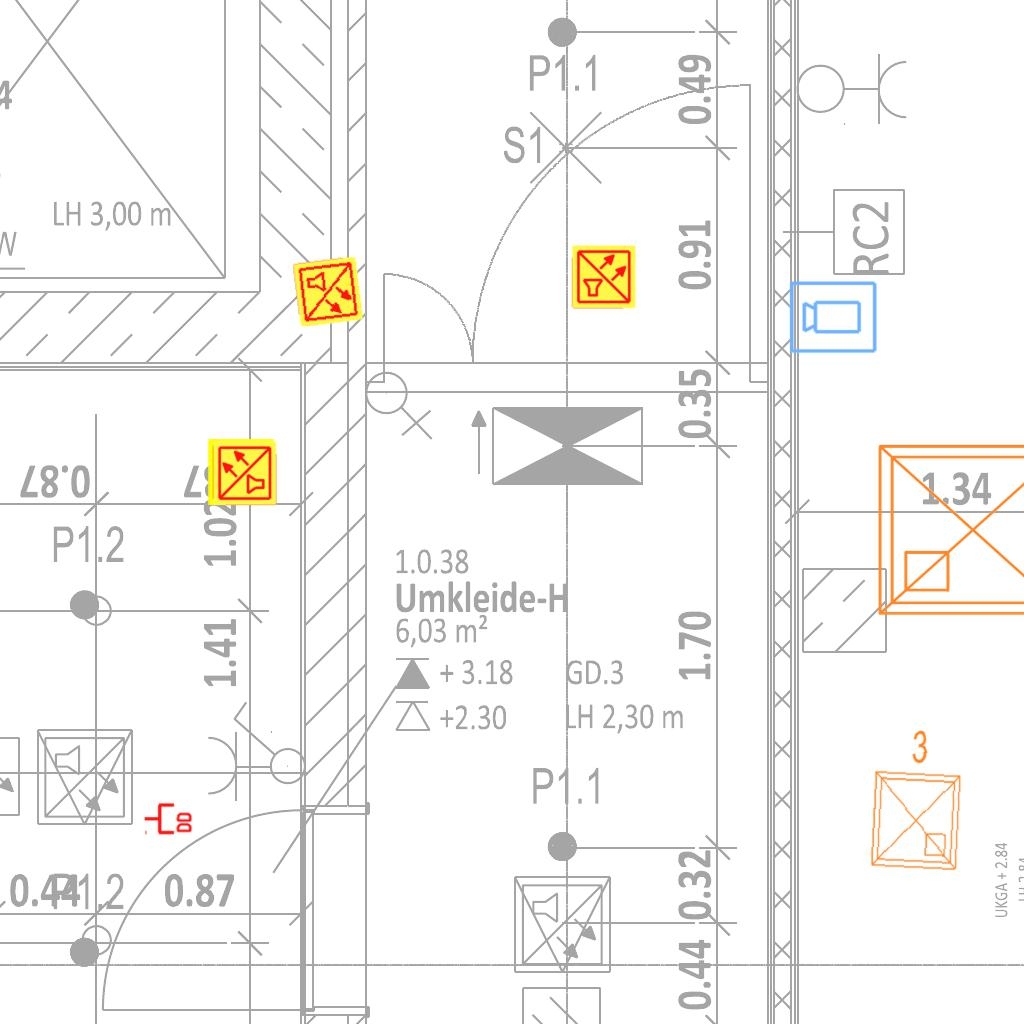Datenanschluss_zweifach: (143, 801, 194, 835)
Einbaudownlights_LED_Konferenzraeume: (864, 422, 1024, 630), (859, 722, 971, 878)
KFO_Kamera_mit_Festobjektiv: (788, 278, 879, 355)
NAM-Nichtautomatischer_Melder: (208, 439, 274, 505)
OKW_Multisensormelder_(Kombination_optischer_Rauch-Kahlenmonoxid_Waerme-Melder): (291, 255, 365, 329), (571, 244, 637, 310), (212, 440, 278, 506)
